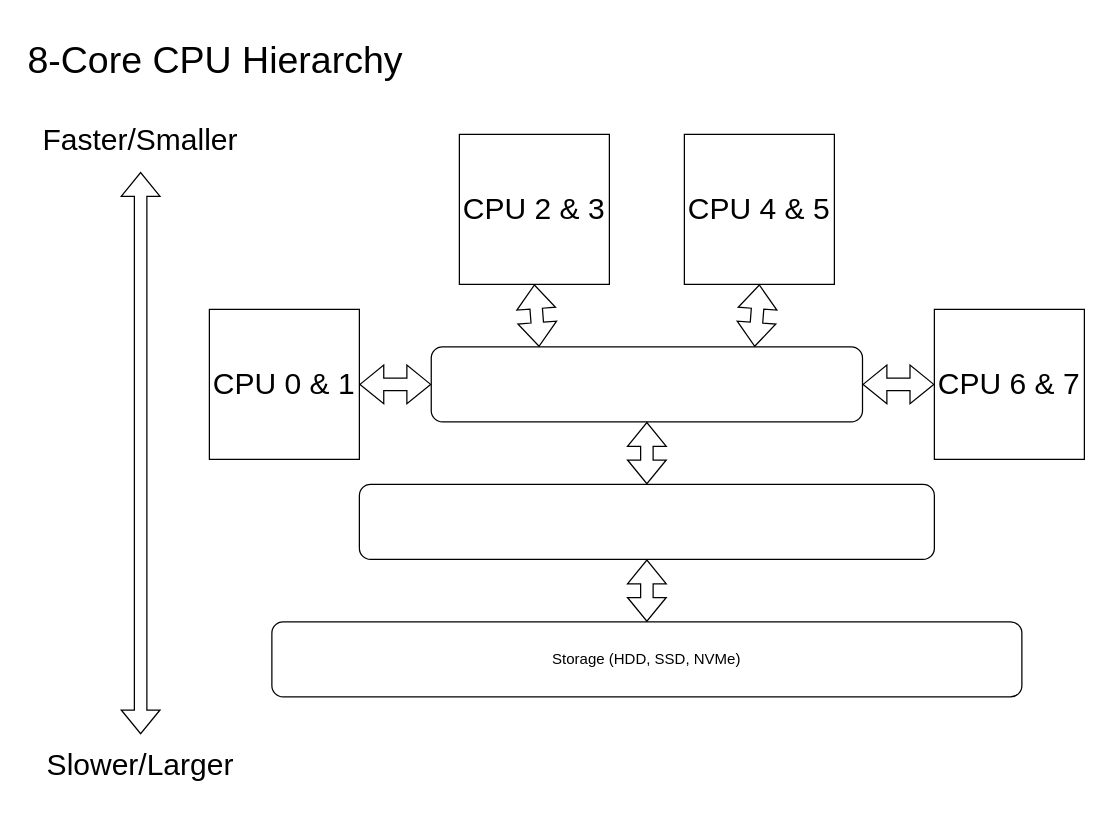
This 1106x818 diagram has some shape labels left out. The shapes that lost their labels are listed below. From the top down, each one's box as (x1, y1, x2, y2) in pixels, then its label:
(430, 346, 862, 422): L3 Cache
(358, 483, 934, 559): Memory (RAM)
